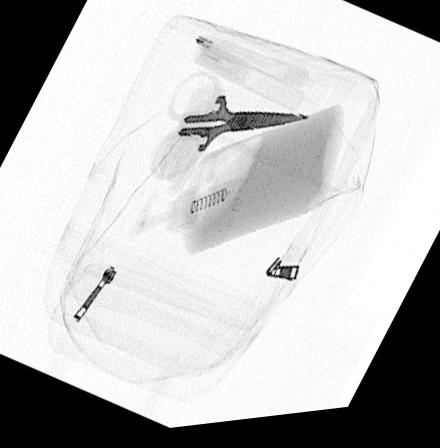Scissors: (148, 68, 312, 188)
